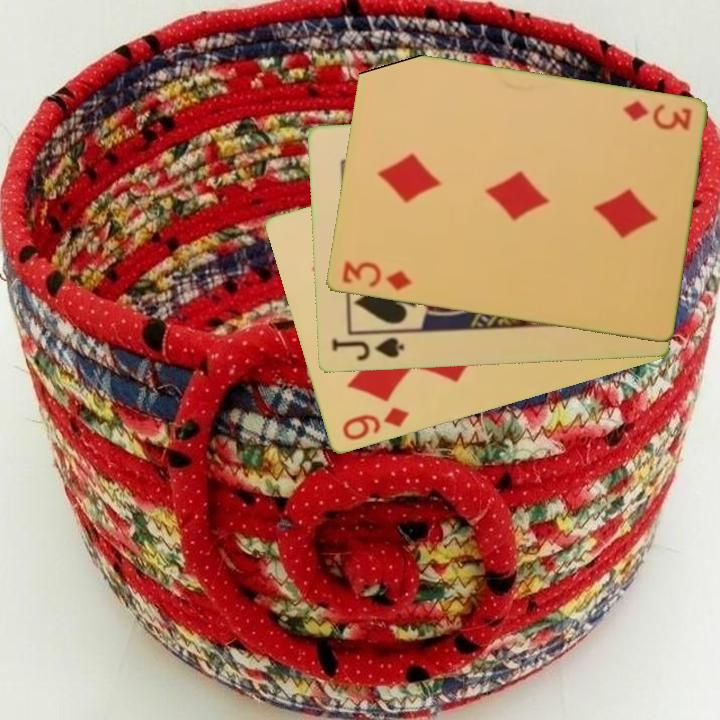3d: (338, 258, 414, 294), (618, 97, 694, 133)
9d: (338, 404, 412, 444)
Js: (327, 335, 407, 364)
